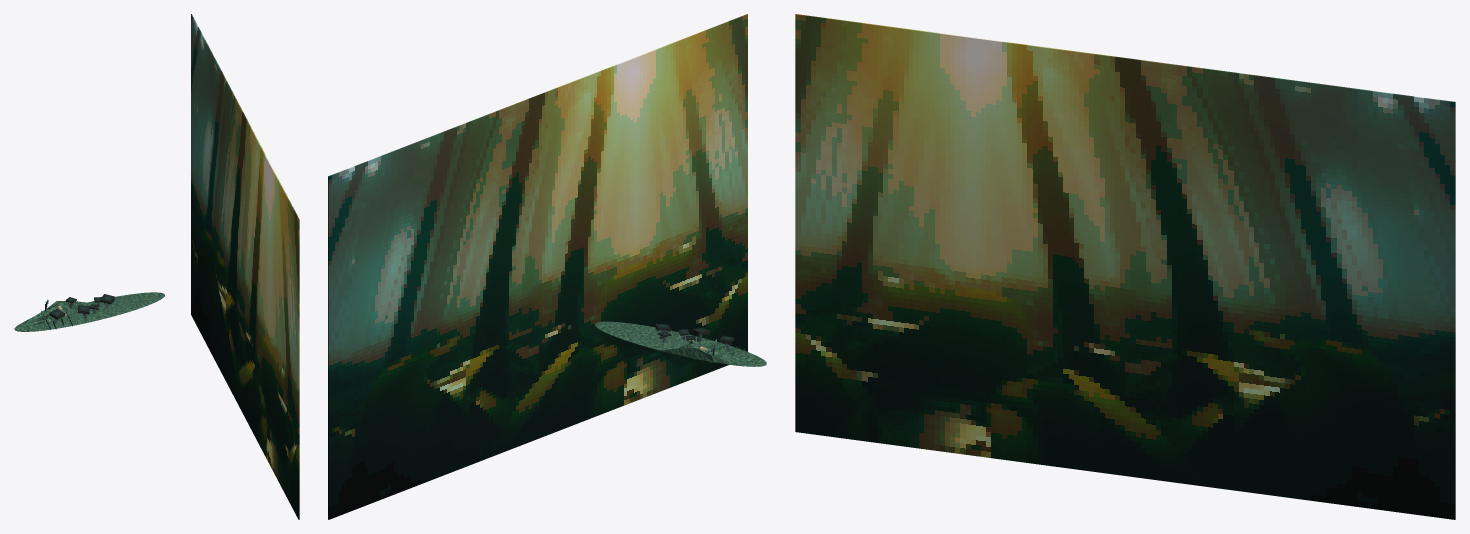
The model's file is the_mushroom_valley.glb.
The picture shows the model from 3 angles, left to right: view 1: azimuth 30°, elevation 25°; view 2: azimuth 150°, elevation 25°; view 3: azimuth 270°, elevation 25°; orthographic projection. The views are drawn at different scales.
Visible parts, largest first — view 1: download (15)_0_98, sphere_0; view 2: download (15)_0_98, sphere_0; view 3: download (15)_0_98.
Boxes of the visible parts, <box> form: download (15)_0_98: <box>191,14,299,519</box>; sphere_0: <box>14,292,164,331</box>; download (15)_0_98: <box>328,14,747,519</box>; sphere_0: <box>595,321,766,366</box>; download (15)_0_98: <box>795,14,1455,519</box>.
Size of the model in its own units: 38.88 by 39.84 by 57.09.
4 materials, 4 textured.
